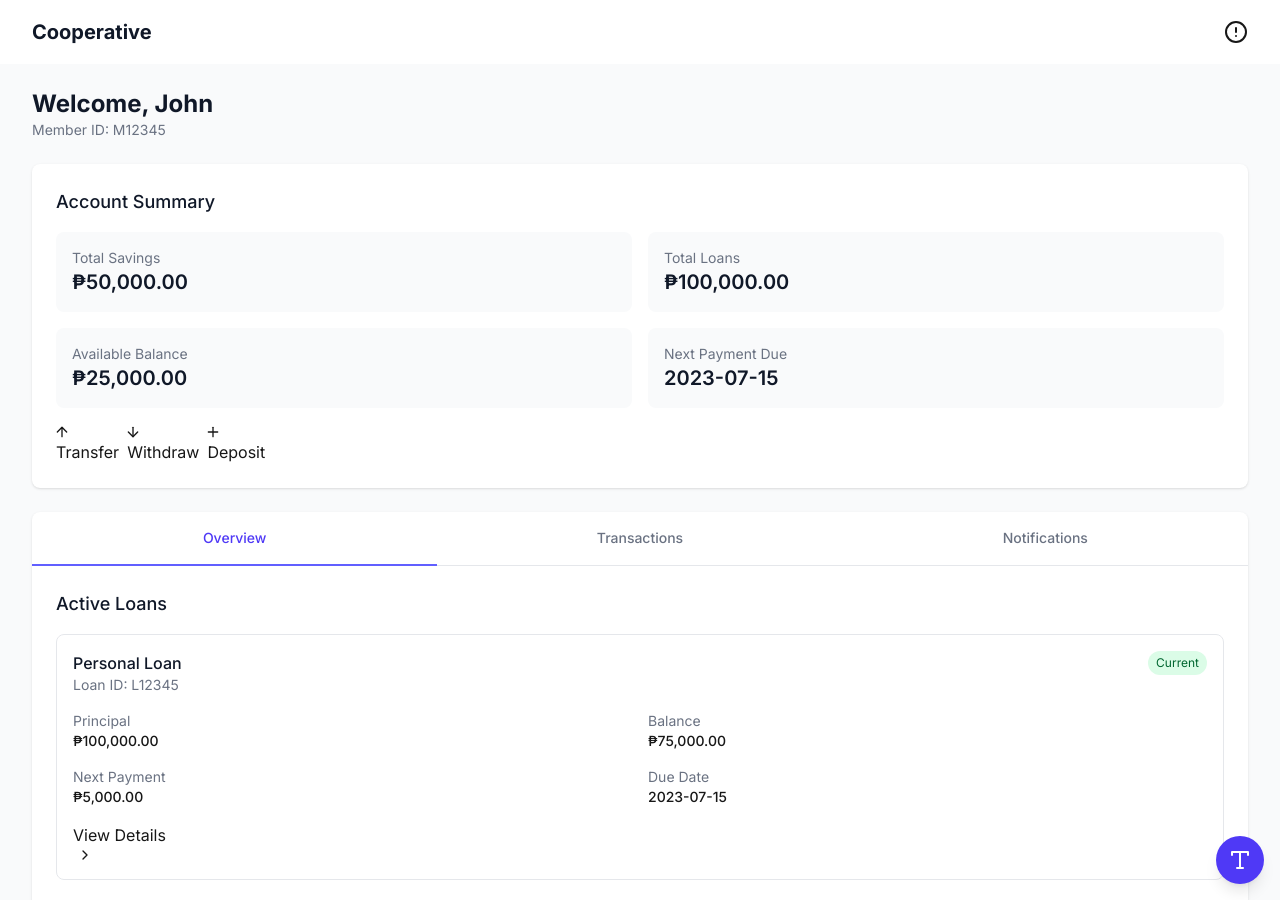
Test case: MemberDashboard › renders empty state when no notifications
# Click the notifications tab
Click the button "Notifications": [1045, 539] box [843,512,1248,566]
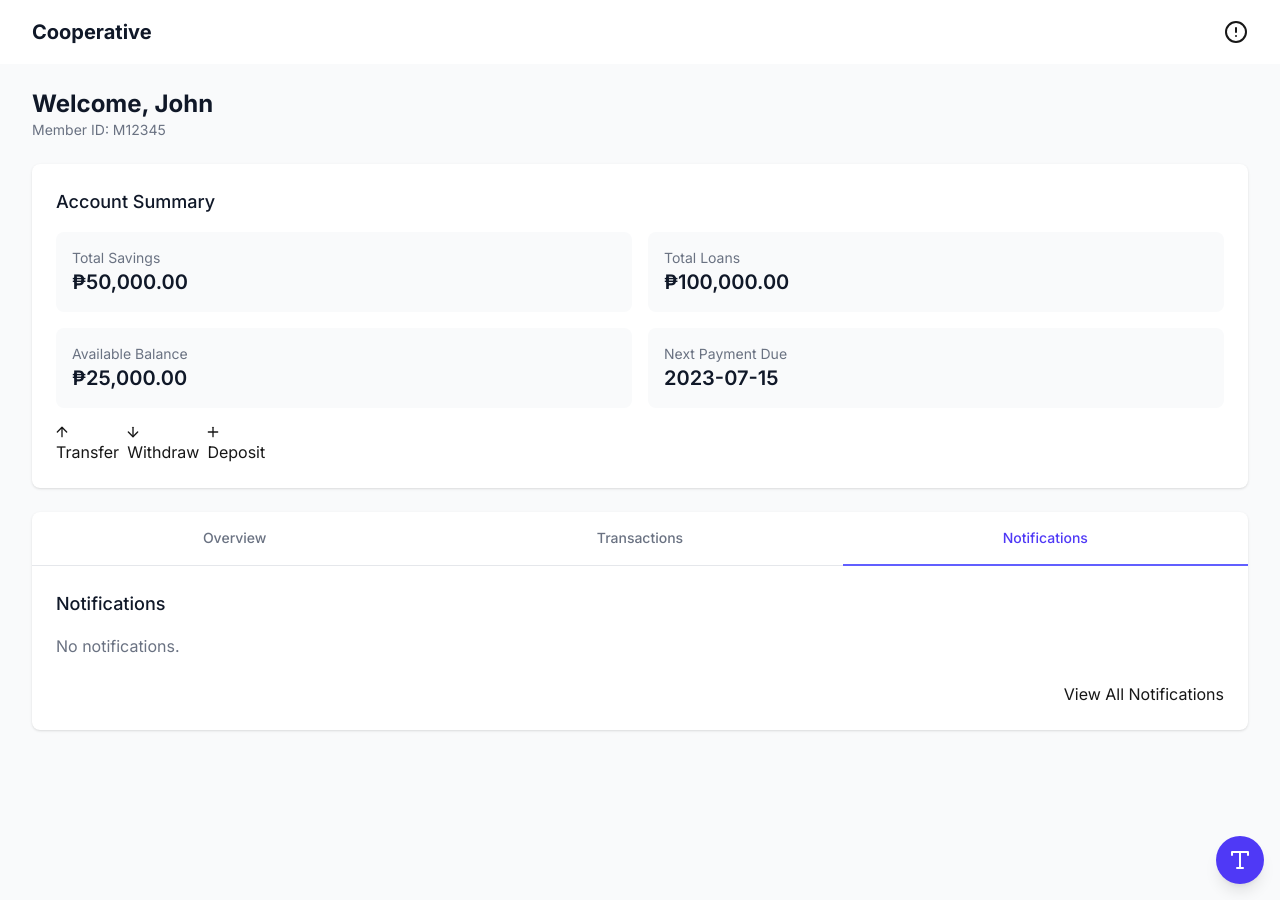
Check: the text "No notifications." is shown, box [56,636,180,656]
